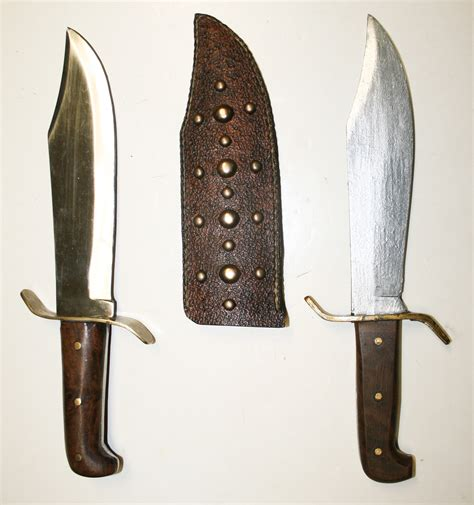knife: (313, 15, 454, 481), (20, 20, 157, 479)
